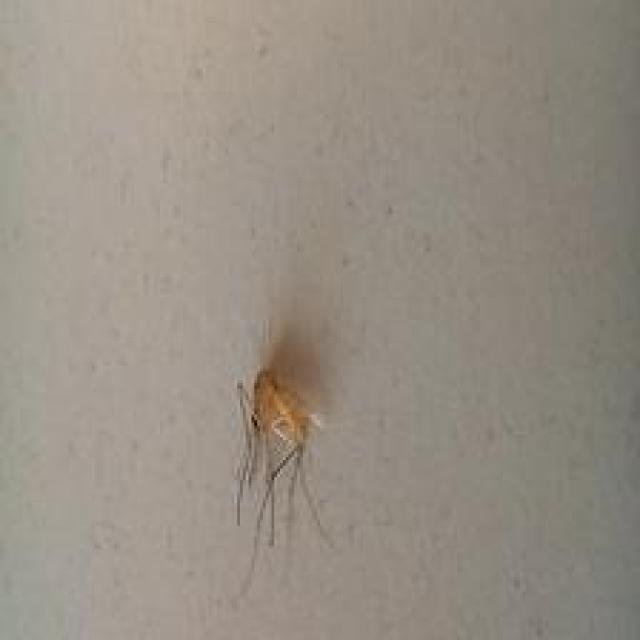Culex: (232, 363, 337, 597)
